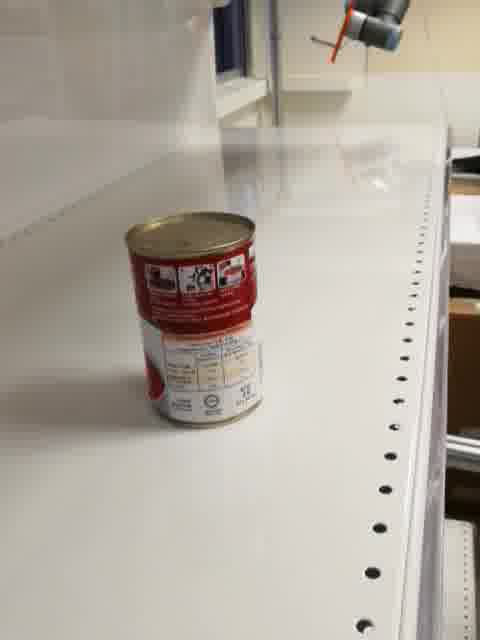tomatosoup: (123, 208, 264, 429)
